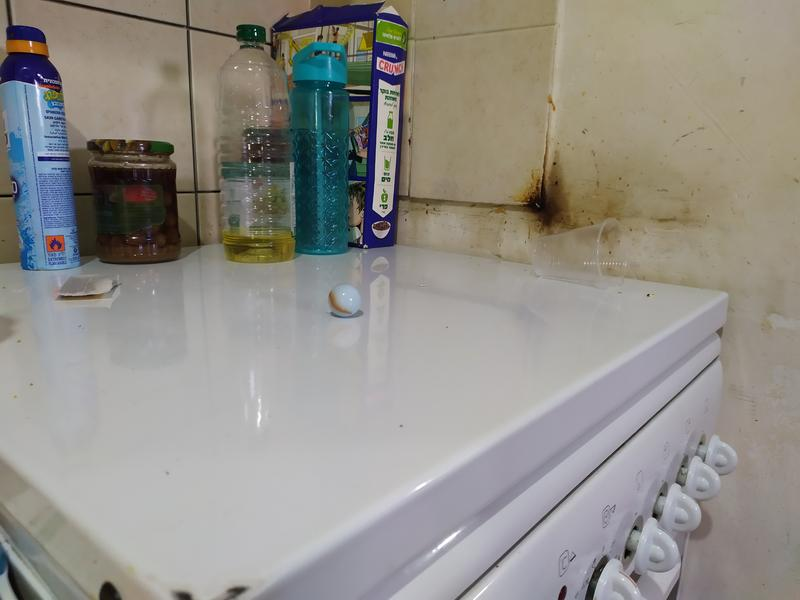Warning: (326, 281, 364, 319)
